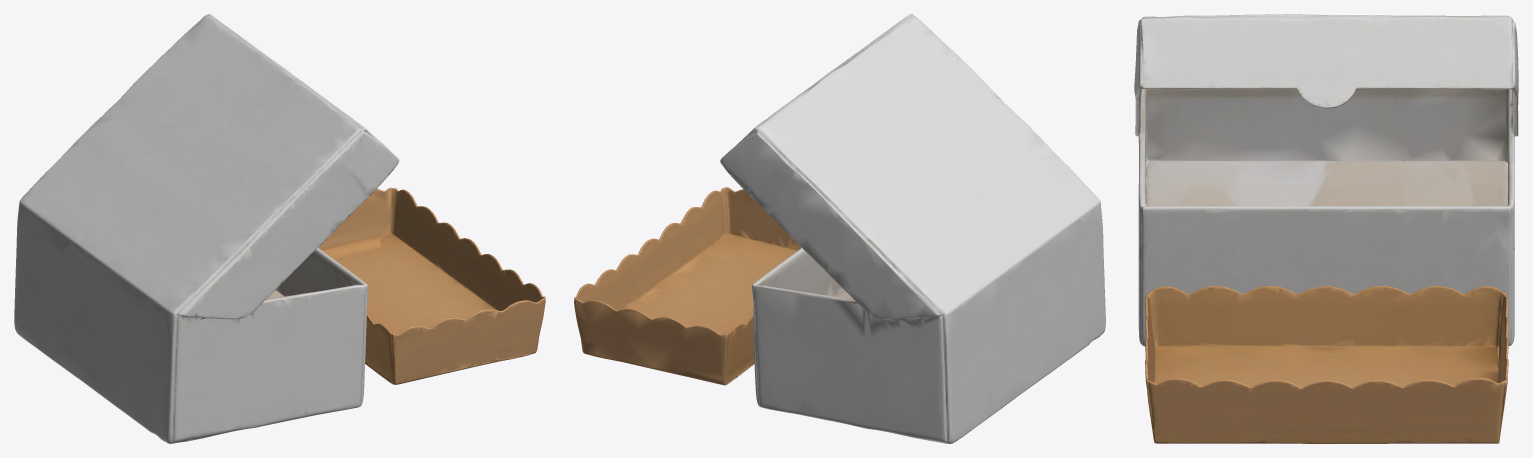
Rendered from caja.glb.
The picture shows the model from 3 angles, left to right: view 1: azimuth 30°, elevation 25°; view 2: azimuth 150°, elevation 25°; view 3: azimuth 270°, elevation 25°; orthographic projection. The views are drawn at different scales.
Parts seen in each view (by area): view 1: tripo_node_25af7f30-ed1b-4d40-a5c5-94736599fa38; view 2: tripo_node_25af7f30-ed1b-4d40-a5c5-94736599fa38; view 3: tripo_node_25af7f30-ed1b-4d40-a5c5-94736599fa38.
Part boxes in pixels (x1,y1,x2,y2): tripo_node_25af7f30-ed1b-4d40-a5c5-94736599fa38: [14, 14, 545, 443]; tripo_node_25af7f30-ed1b-4d40-a5c5-94736599fa38: [574, 14, 1105, 443]; tripo_node_25af7f30-ed1b-4d40-a5c5-94736599fa38: [1134, 14, 1518, 443].
Size of the model in its own units: 0.9999 by 0.7005 by 0.7354.
Materials: 1 (1 with a texture image).
